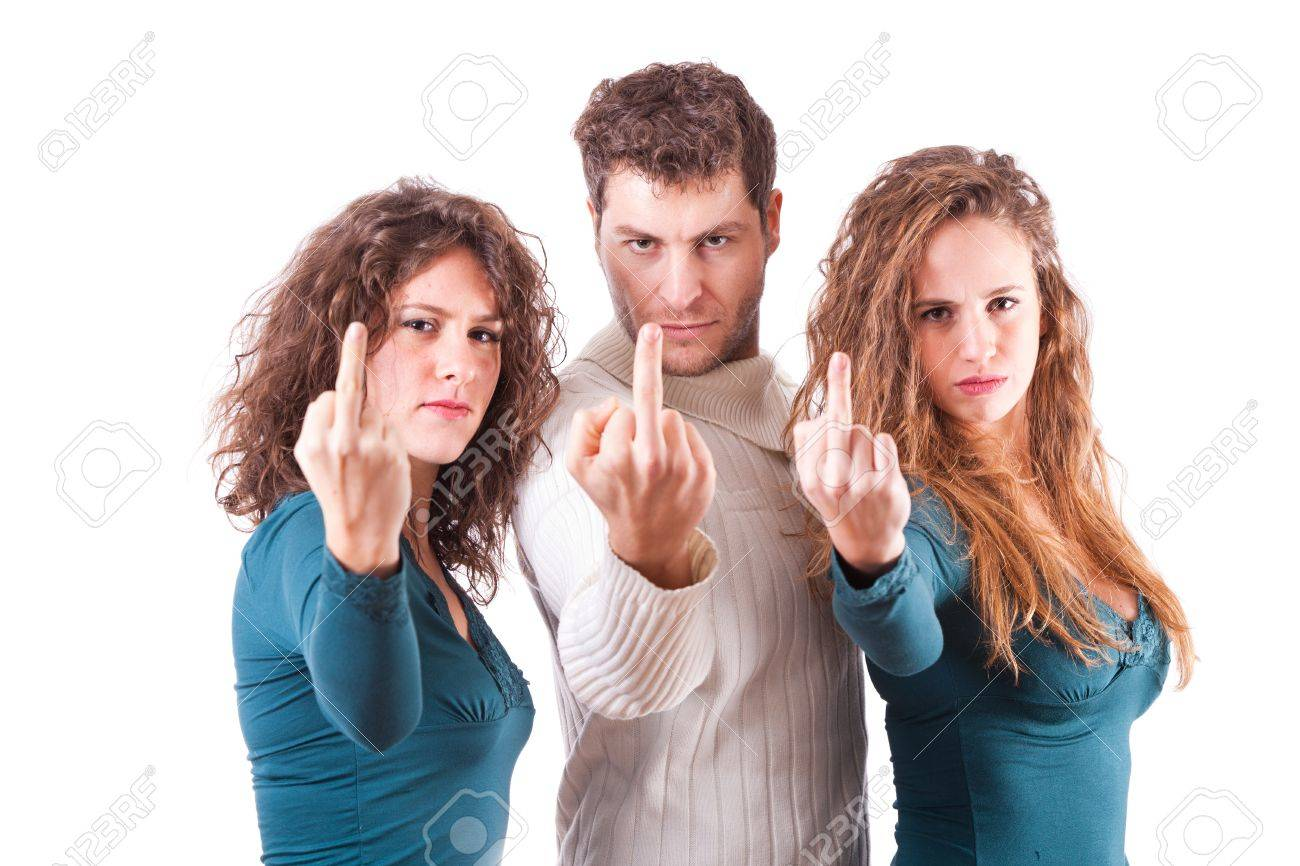bare: (605, 269, 770, 376), (370, 348, 507, 463), (906, 324, 1049, 418)
